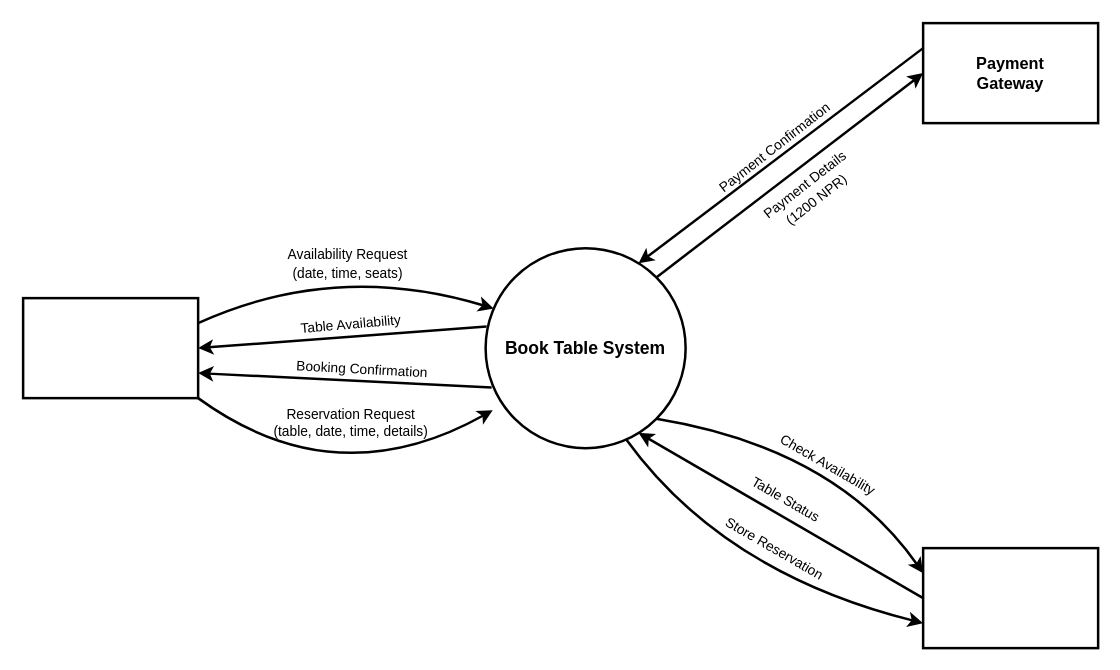
The diagram is 1120 pixels wide and 670 high, and some of its shapes have lost their labels. The shapes that lost their labels are listed below. From the top down, each one's centre as x and y in pixels, then its label:
point 110,347: User (Visitor/Member)
point 1010,597: Table Database
